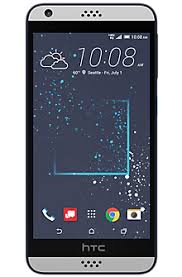htc: (22, 1, 163, 274)
